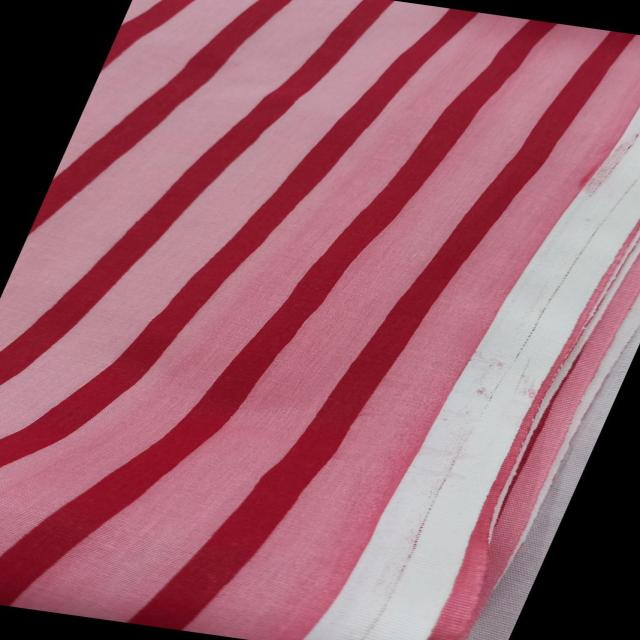color issues: (0, 227, 501, 640), (373, 0, 640, 70)
